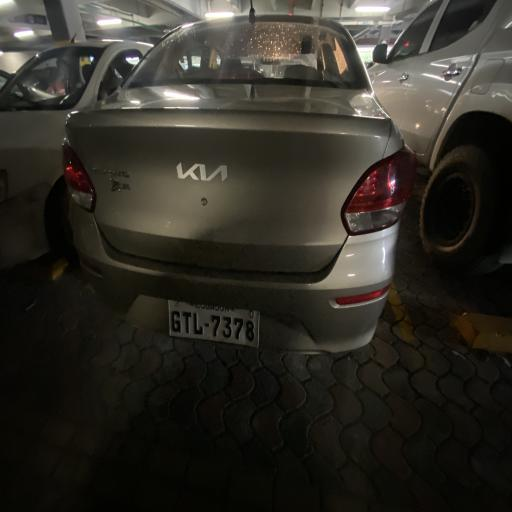license_plate: (168, 307, 182, 336), (192, 311, 204, 337), (210, 314, 222, 338), (221, 316, 233, 340), (232, 317, 244, 341), (182, 309, 192, 335), (245, 320, 255, 344)
